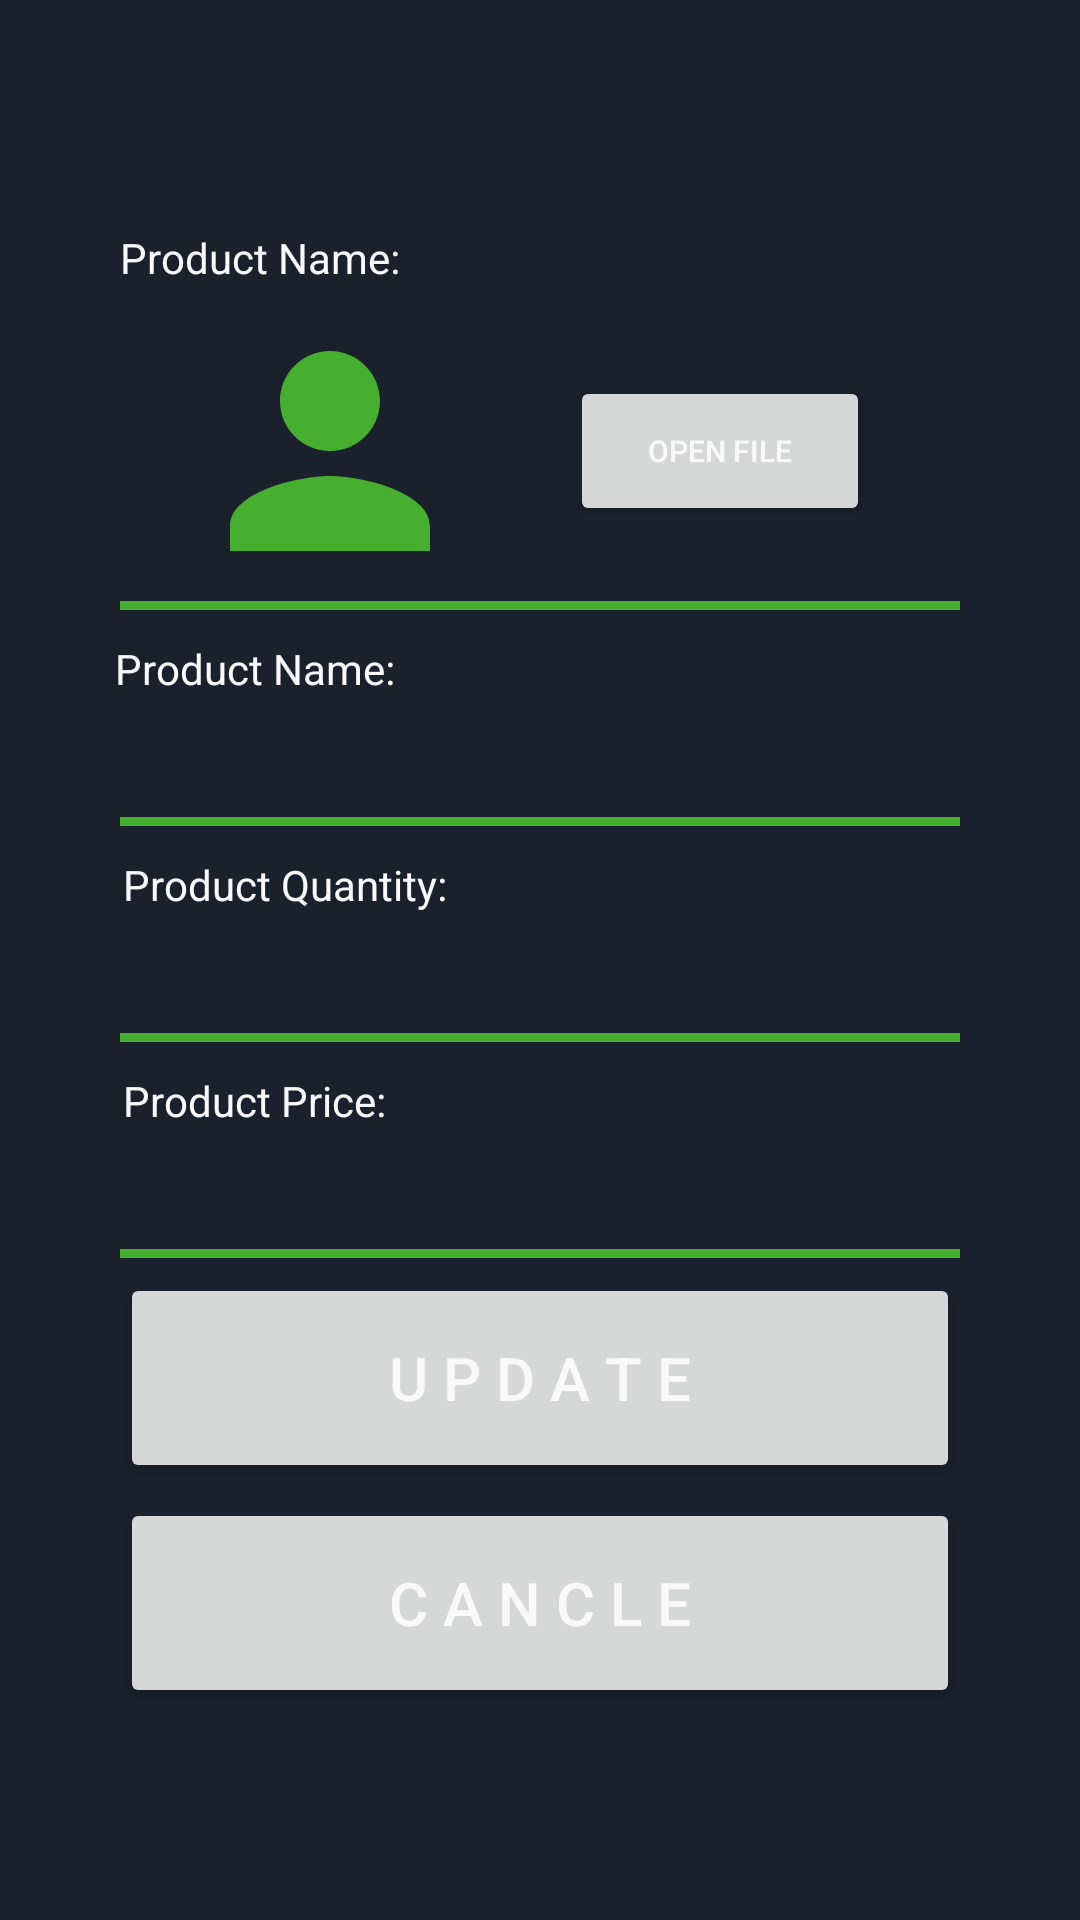

Screen size 1080x1920. Icon name, then its box in pixels as (x1, y1, x2, y2):
person: (230, 351, 430, 551)
